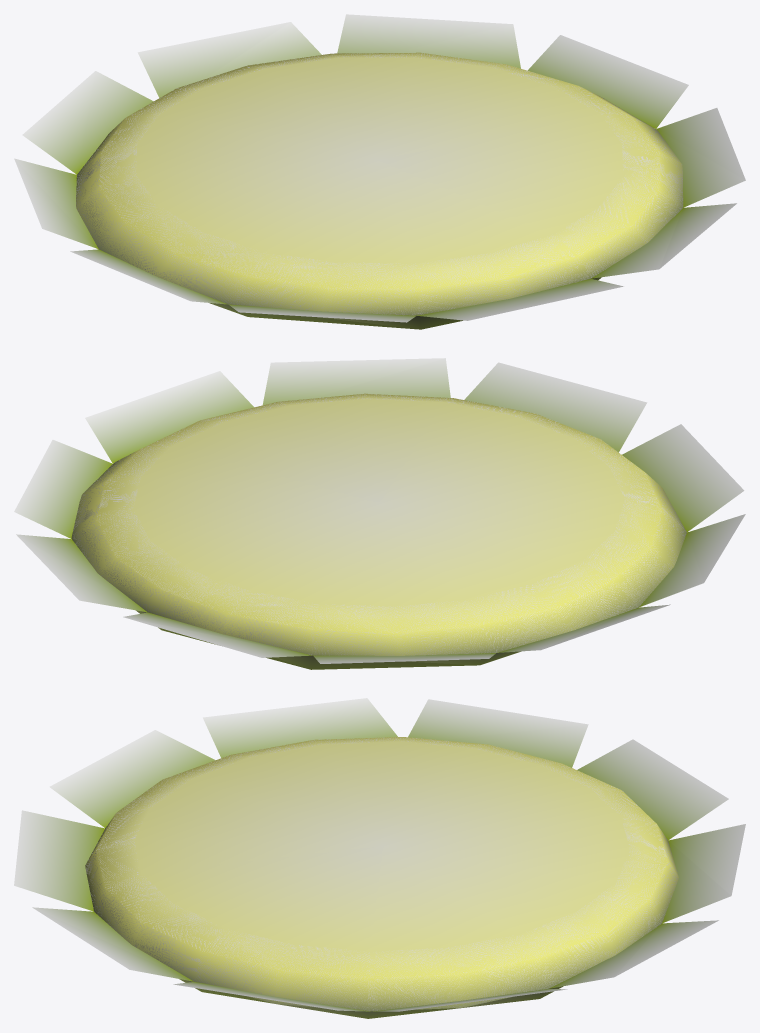
The model's file is CactusPlatform.gltf.
3 views of the same model, one above another, from view 1: azimuth 30°, elevation 25°; view 2: azimuth 150°, elevation 25°; view 3: azimuth 270°, elevation 25° (orthographic).
Visible parts, largest first — view 1: CactusPlatformMesh, CactusPlatformColFloor, CactusPlatformColWall; view 2: CactusPlatformMesh, CactusPlatformColFloor, CactusPlatformColWall; view 3: CactusPlatformMesh, CactusPlatformColFloor, CactusPlatformColWall.
Part boxes in pixels (x1=…): CactusPlatformMesh: x1=14, y1=14, x2=745, y2=329; CactusPlatformColFloor: x1=99, y1=53, x2=659, y2=289; CactusPlatformColWall: x1=76, y1=88, x2=683, y2=315; CactusPlatformMesh: x1=14, y1=358, x2=745, y2=669; CactusPlatformColFloor: x1=97, y1=394, x2=661, y2=633; CactusPlatformColWall: x1=73, y1=452, x2=686, y2=655; CactusPlatformMesh: x1=14, y1=698, x2=745, y2=1018; CactusPlatformColFloor: x1=96, y1=737, x2=666, y2=977; CactusPlatformColWall: x1=86, y1=820, x2=677, y2=1010.
Size of the model in its own units: 4.92 by 0.6192 by 4.85.
